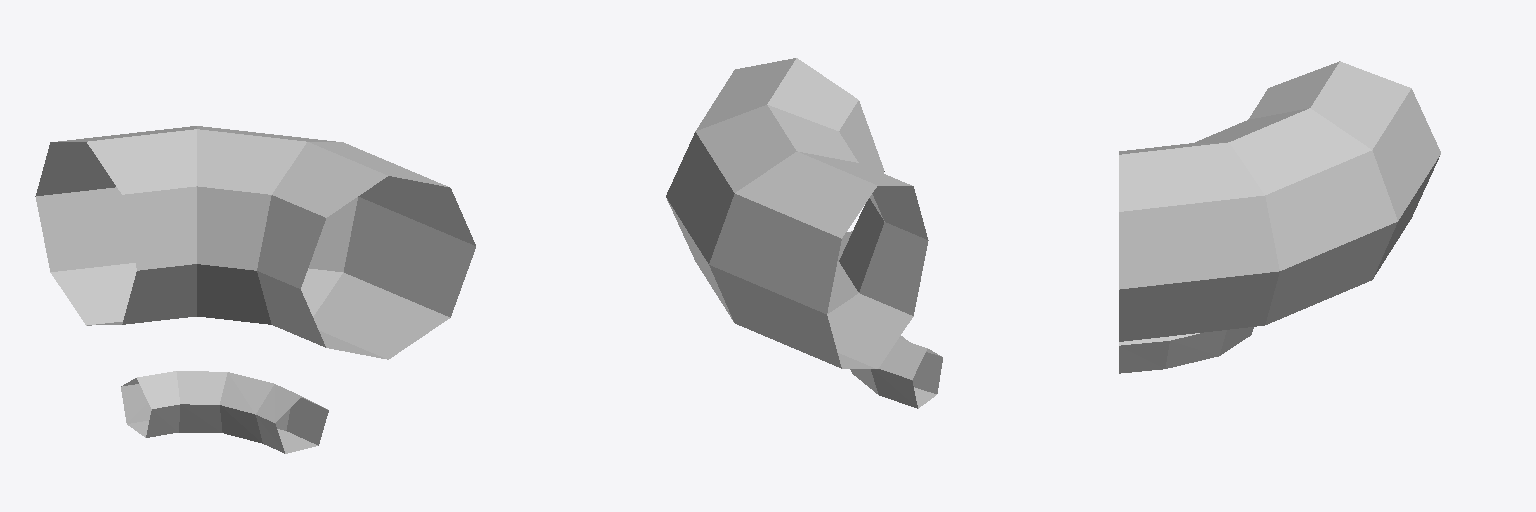
Rendered from Pipes_Connector_2.obj.
3 views of the same model, side by side, from view 1: azimuth 30°, elevation 25°; view 2: azimuth 150°, elevation 25°; view 3: azimuth 270°, elevation 25° (orthographic).
Visible parts, largest first — view 1: Pipes_horizontal_turn_1; view 2: Pipes_horizontal_turn_1; view 3: Pipes_horizontal_turn_1.
Boxes of the visible parts, x1,y1,x2,y2 form: Pipes_horizontal_turn_1: [35, 126, 475, 453]; Pipes_horizontal_turn_1: [666, 58, 942, 408]; Pipes_horizontal_turn_1: [1119, 61, 1440, 373].
Size of the model in its own units: 1.1 by 0.9535 by 1.1.